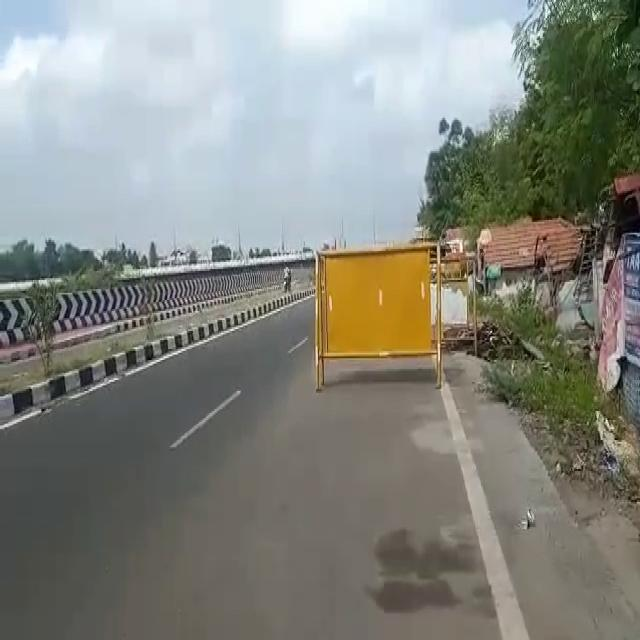fallen_object: (283, 222, 478, 415)
